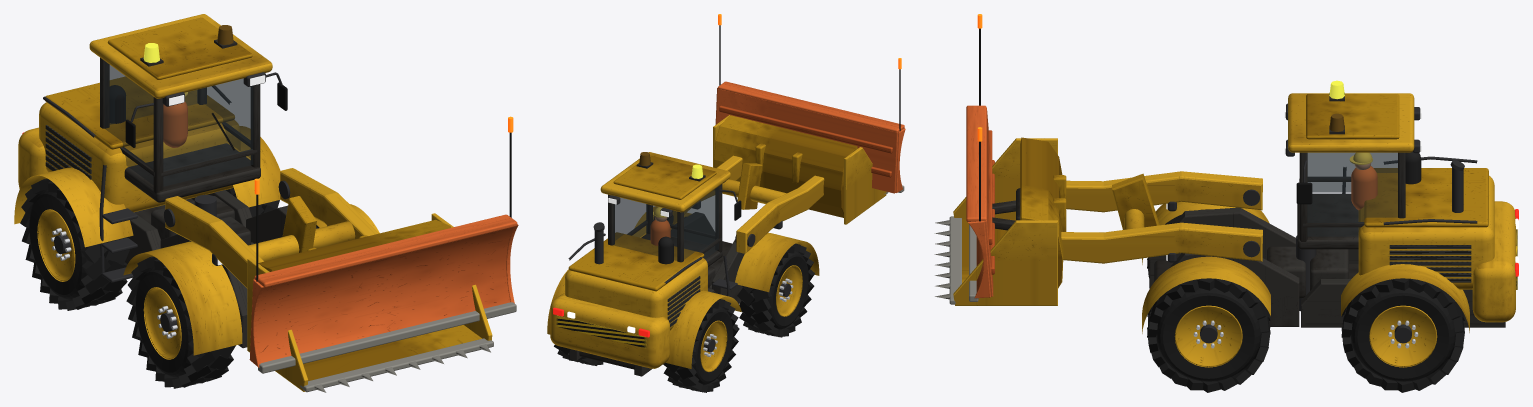
Rendered from loader_reference.glb.
3 renders of one model, left to right at view 1: azimuth 30°, elevation 25°; view 2: azimuth 150°, elevation 25°; view 3: azimuth 270°, elevation 25°, orthographic. The views are drawn at different scales.
Parts seen in each view (by area): view 1: frame_rear, plow, bucket, arm, frame_front, wheel_rear_right, wheel_front_right; view 2: frame_rear, bucket, plow, frame_front, arm, wheel_front_right, wheel_rear_right; view 3: frame_rear, bucket, arm, wheel_rear_left, wheel_front_left, frame_front, plow.
Boxes of the visible parts, x1,y1,x2,y2 form: frame_rear: (14, 14, 287, 282); plow: (249, 116, 518, 373); bucket: (247, 213, 493, 392); arm: (164, 168, 378, 288); frame_front: (123, 204, 379, 355); wheel_rear_right: (20, 179, 129, 310); wheel_front_right: (126, 256, 235, 388); frame_rear: (547, 152, 741, 376); bucket: (713, 115, 888, 224); plow: (715, 14, 905, 193); frame_front: (632, 201, 819, 303); arm: (654, 155, 824, 253); wheel_front_right: (737, 243, 814, 337); wheel_rear_right: (663, 299, 739, 392); frame_rear: (1284, 80, 1518, 332); bucket: (934, 137, 1066, 305); arm: (1061, 171, 1262, 263); wheel_rear_left: (1341, 278, 1464, 392); wheel_front_left: (1147, 278, 1270, 392); frame_front: (1142, 201, 1305, 333); plow: (966, 14, 1020, 301).
Size of the model in its own units: 3.5 by 3.94 by 7.51.
39 materials, 7 textured.
